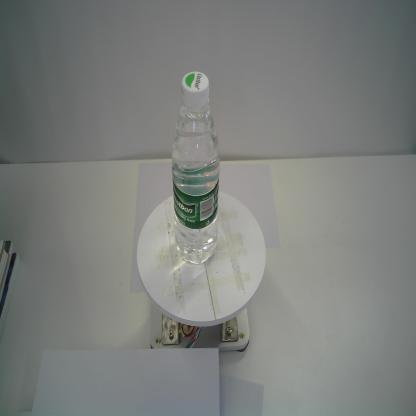Drink: (170, 71, 222, 266)
